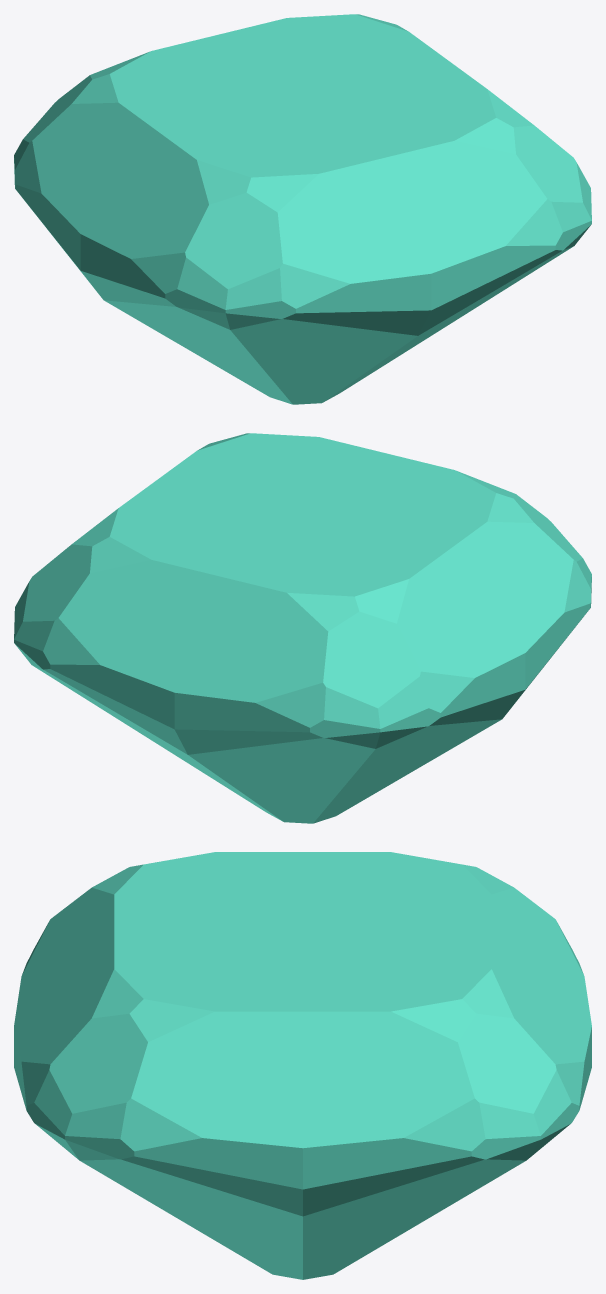
Rendered from cushion.glb.
The picture shows the model from 3 angles, top to bottom: view 1: azimuth 30°, elevation 25°; view 2: azimuth 150°, elevation 25°; view 3: azimuth 270°, elevation 25°; orthographic projection. The views are drawn at different scales.
Parts seen in each view (by area): view 1: Prism_cushion; view 2: Prism_cushion; view 3: Prism_cushion.
Part boxes in pixels (x1,y1,x2,y2): Prism_cushion: [14, 14, 591, 404]; Prism_cushion: [14, 433, 591, 823]; Prism_cushion: [14, 852, 591, 1279].
Size of the model in its own units: 2 by 1.26 by 2.
